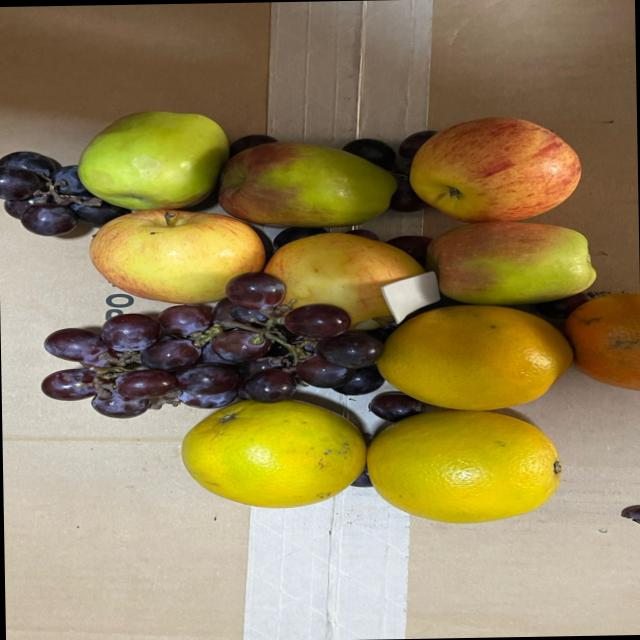hoja: (378, 267, 452, 321)
